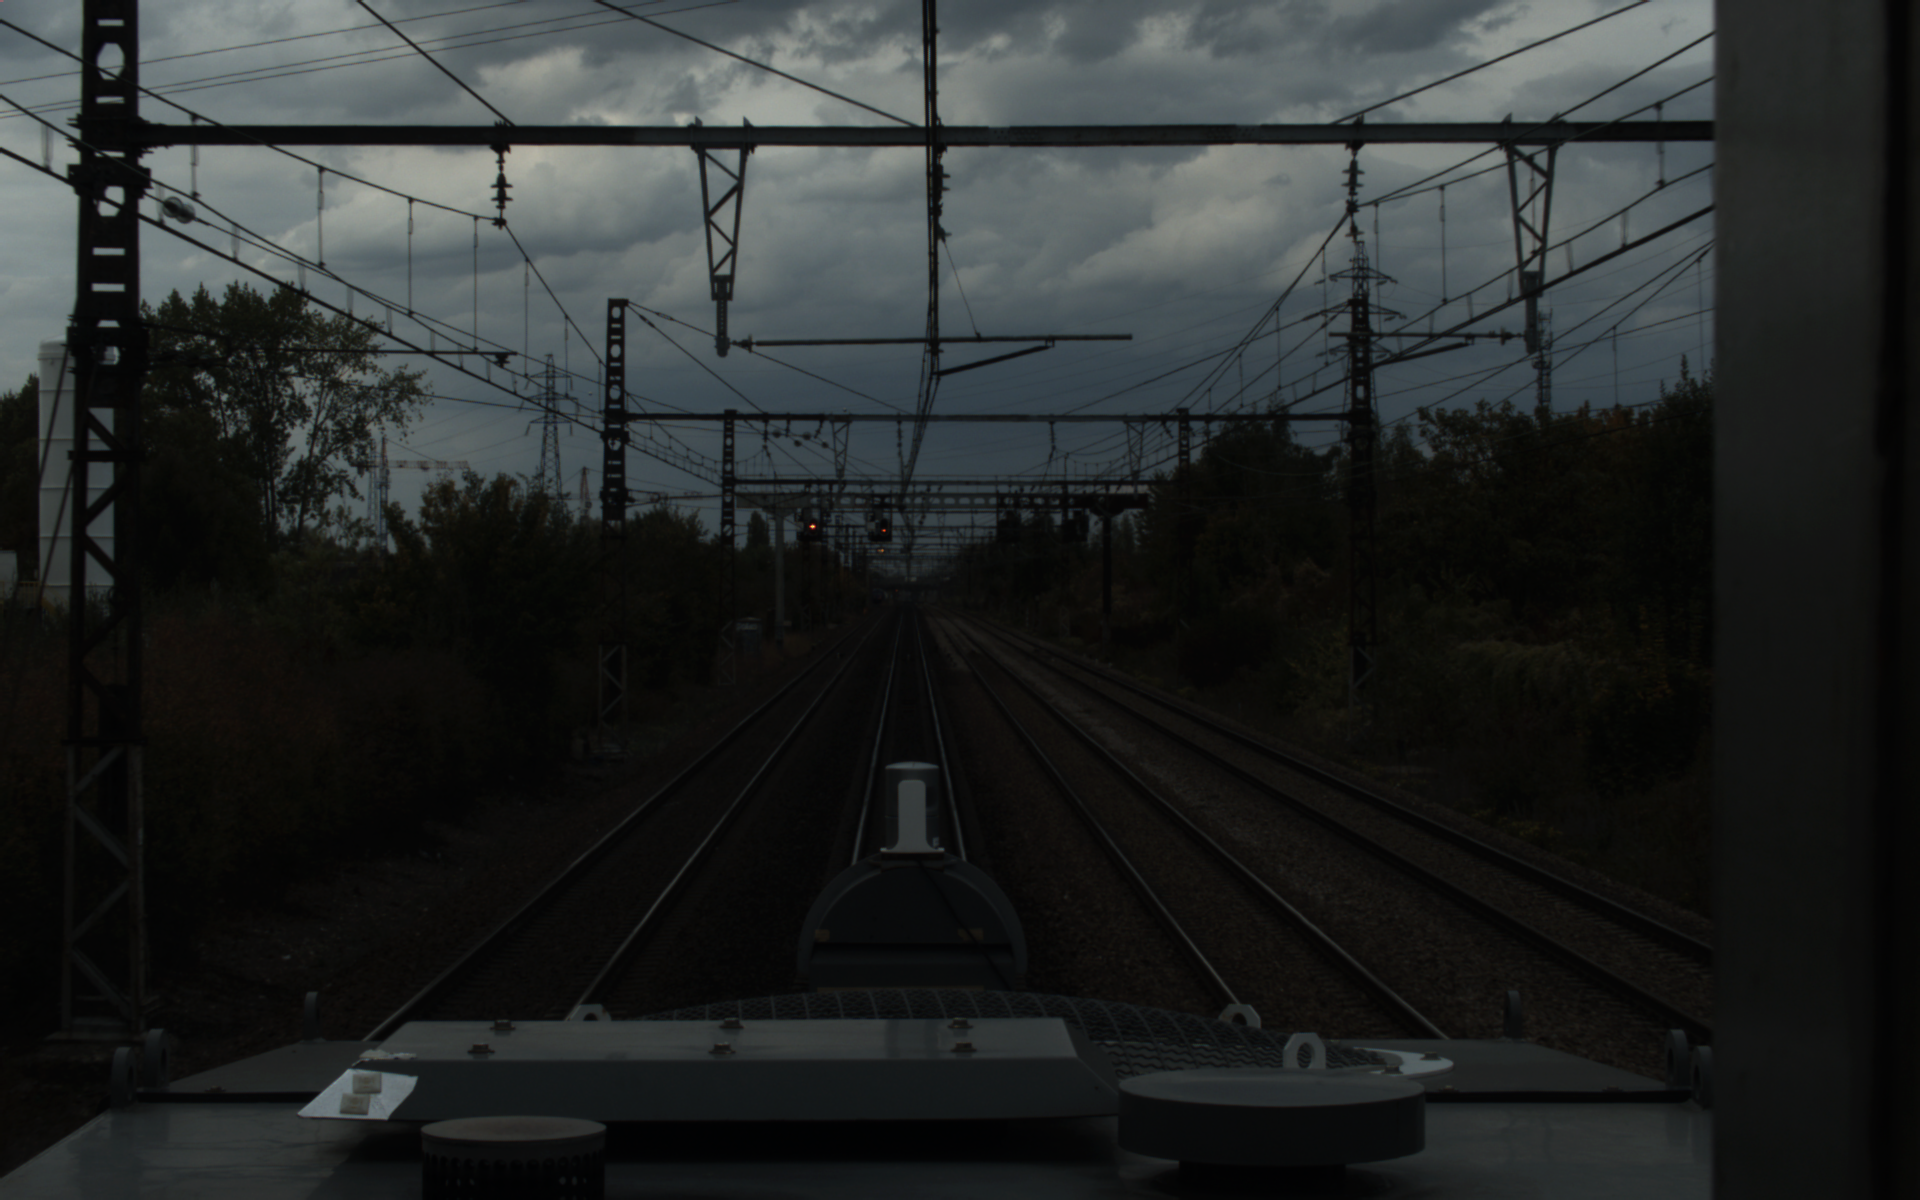Blinking: (876, 516, 890, 536), (804, 516, 818, 536)
